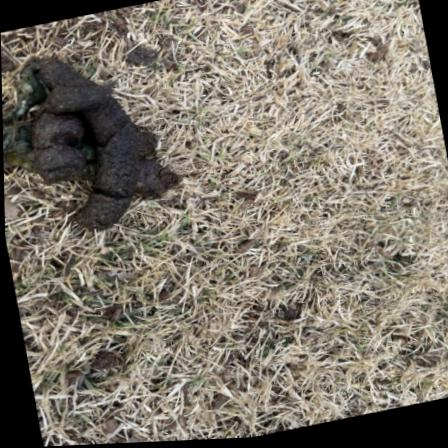dog-poop: (1, 32, 185, 250)
